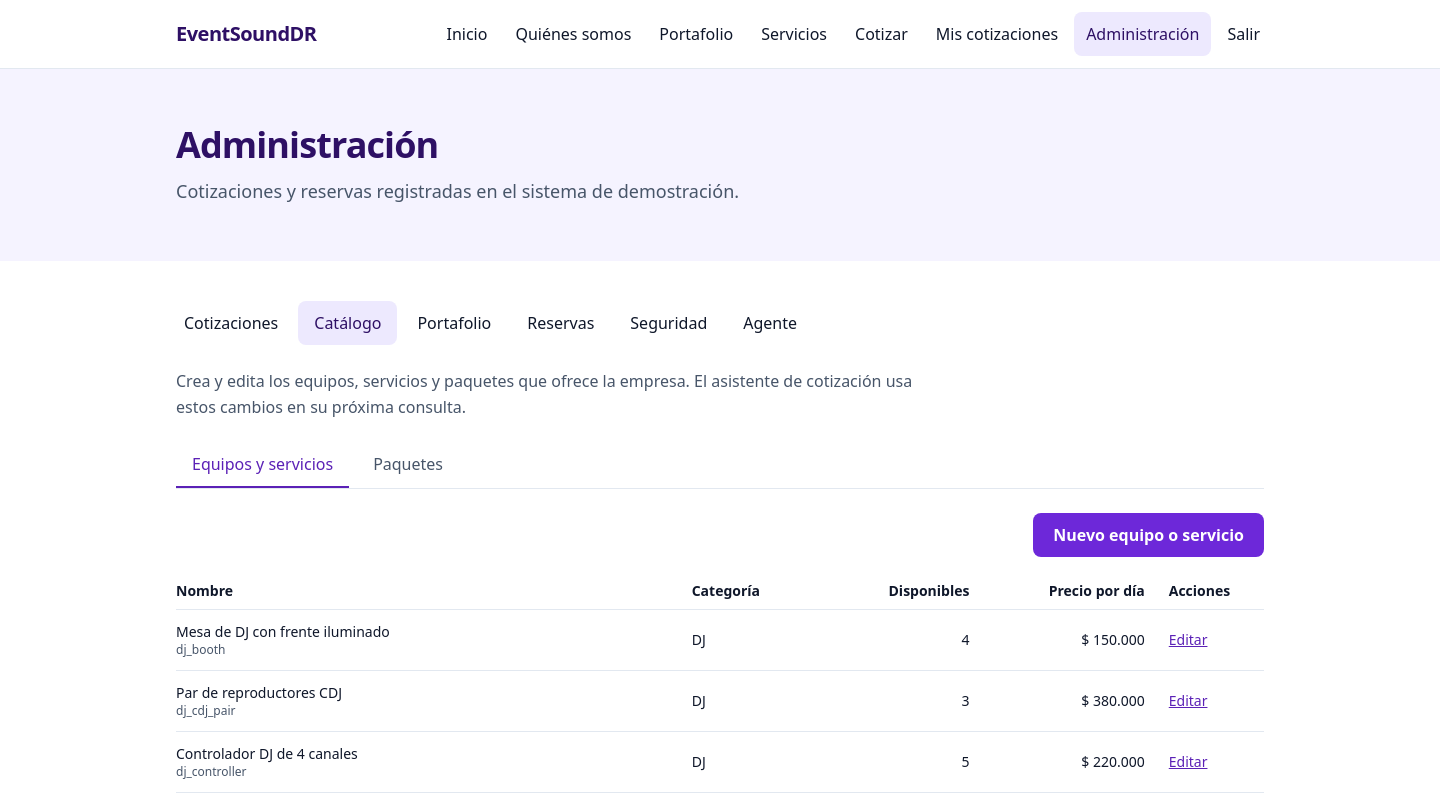
catalog admin: items › explains a taken code and keeps the form open
The image size is (1440, 802).
Click the button "Nuevo equipo o servicio" at (1149, 535), box x1=1033 y1=513 x2=1264 y2=557
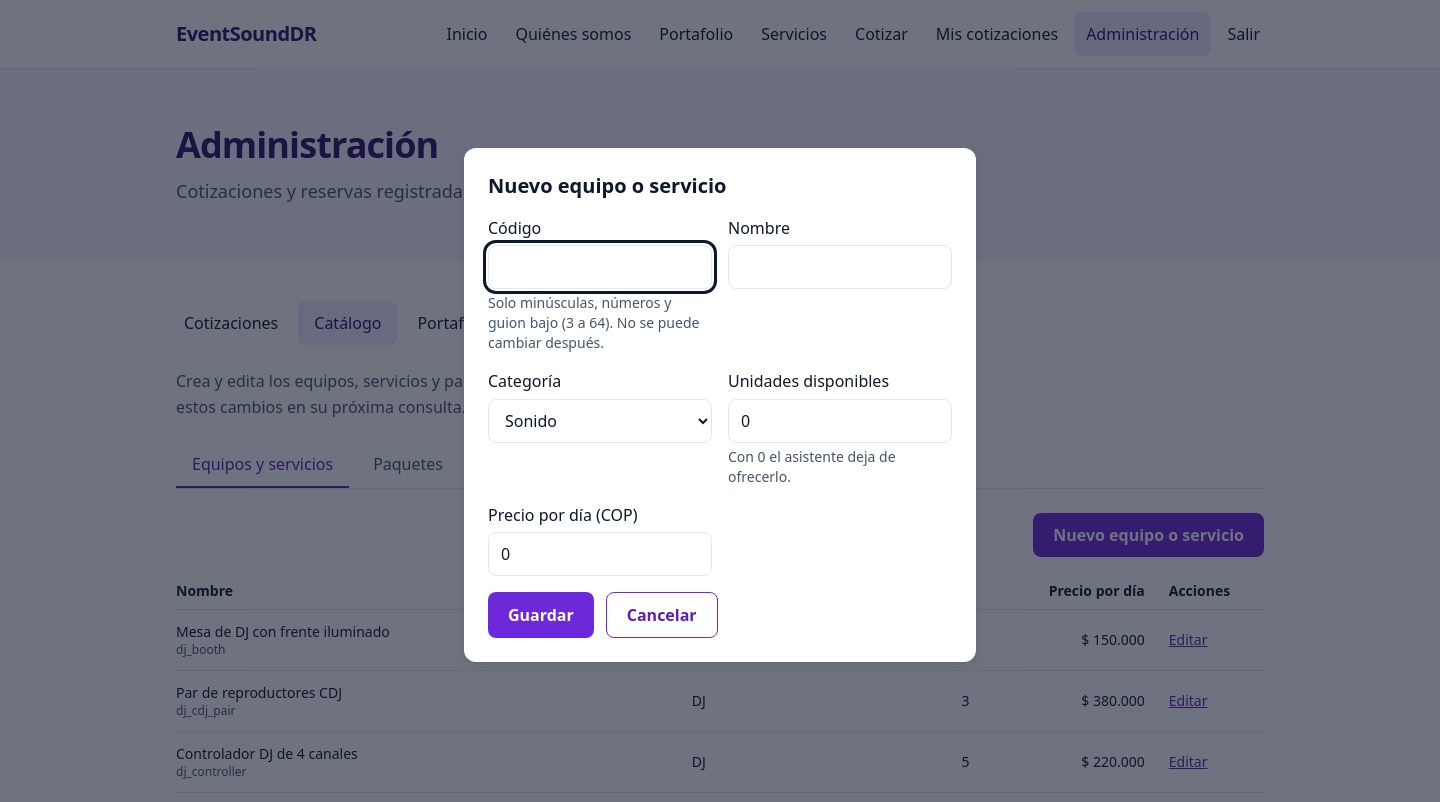
Type "dj_booth" into the field labelled "Código" at (600, 267), box x1=488 y1=245 x2=712 y2=289
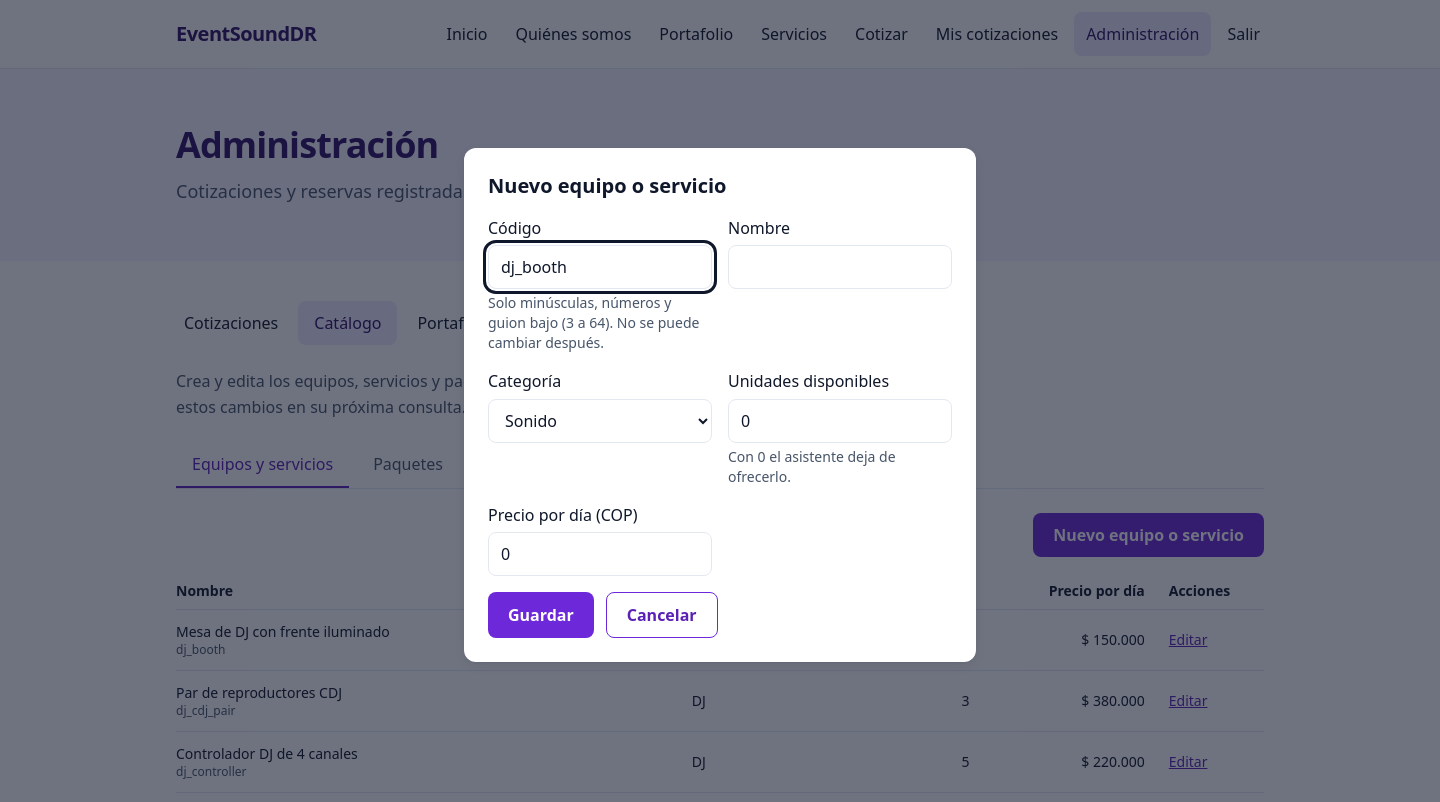
Type "Duplicado" into the field labelled "Nombre" at (840, 267), box x1=728 y1=245 x2=952 y2=289
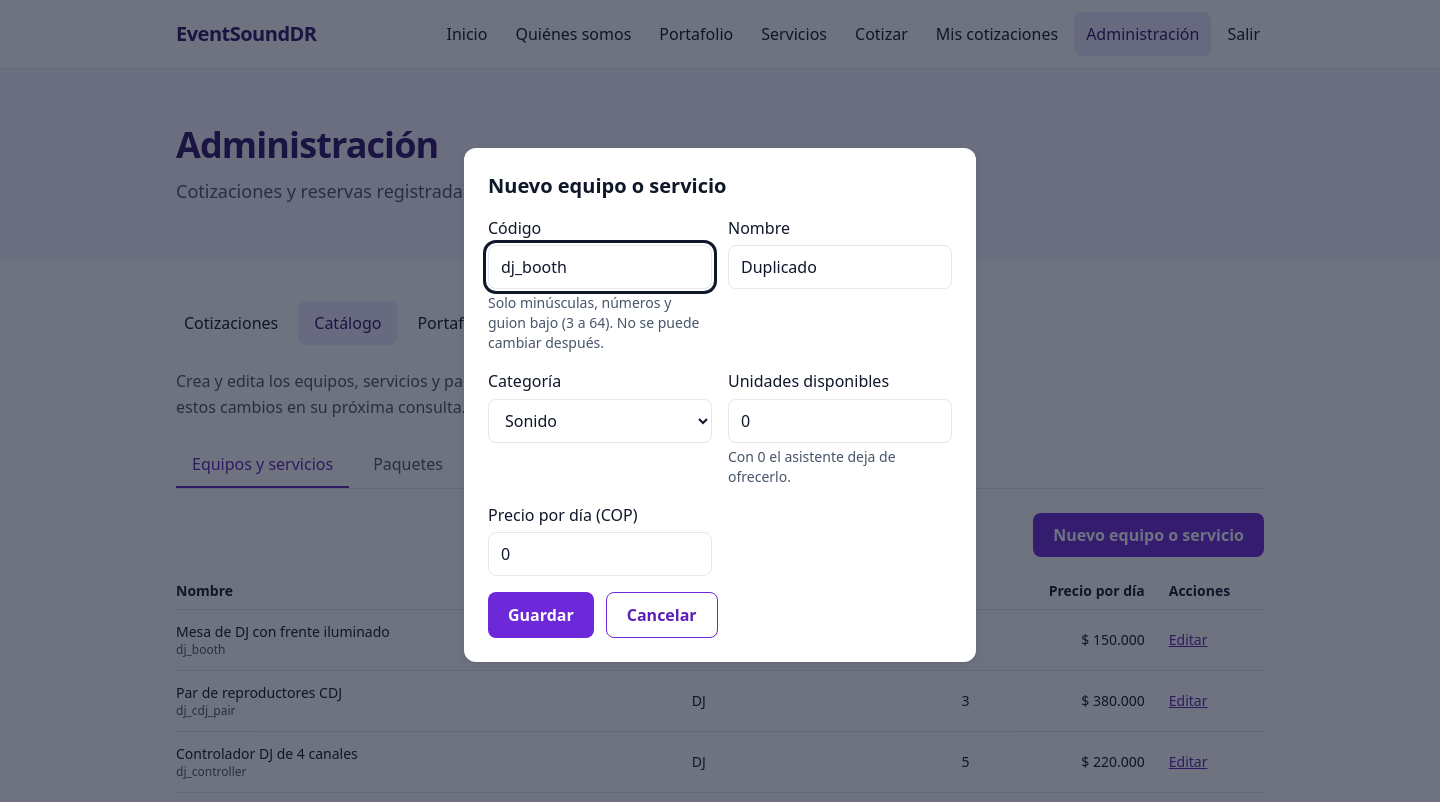
Click the button "Guardar" at (541, 615), box x1=488 y1=592 x2=594 y2=638
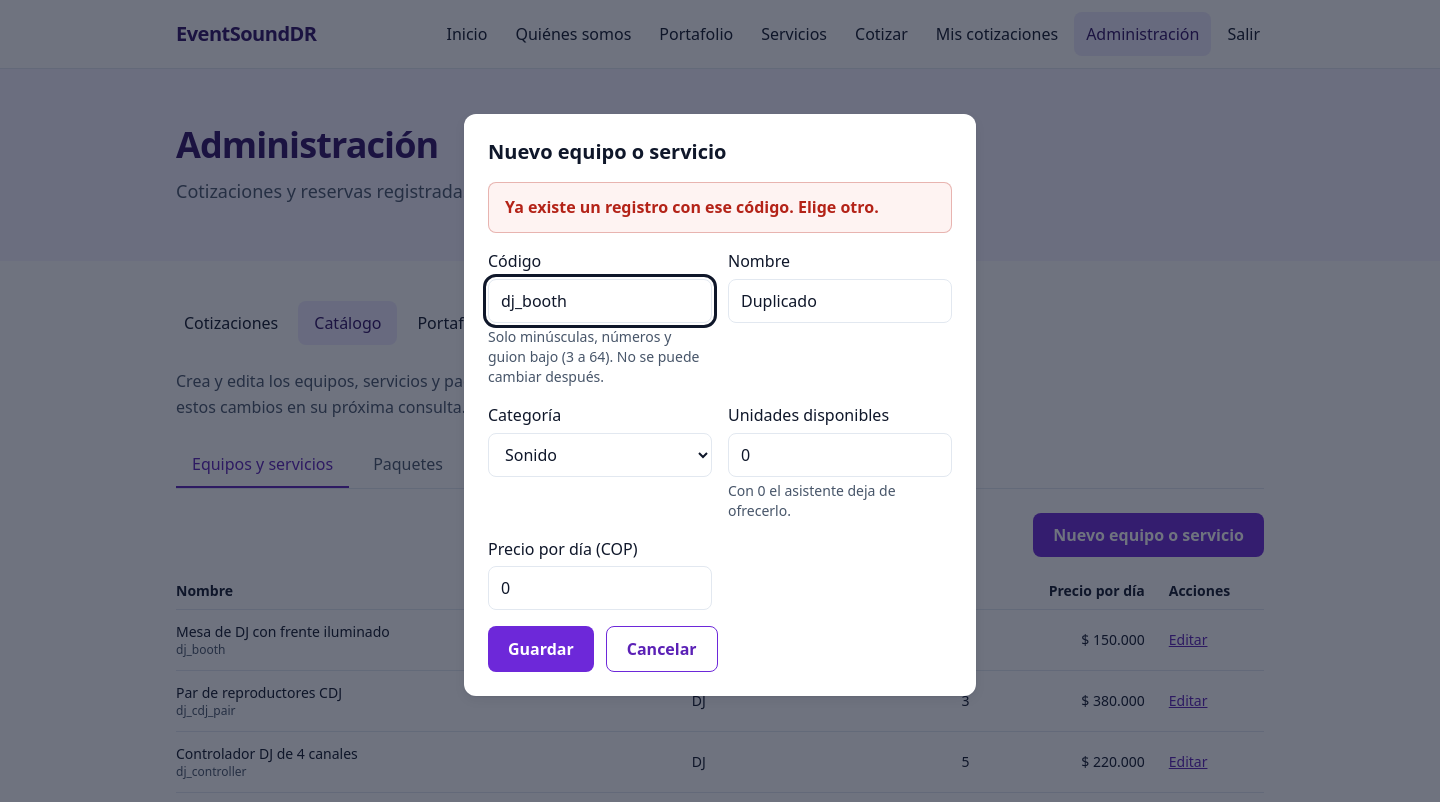
Now the message reads "Ya existe un registro con ese código. Elige otro.", box x1=505 y1=196 x2=879 y2=218
